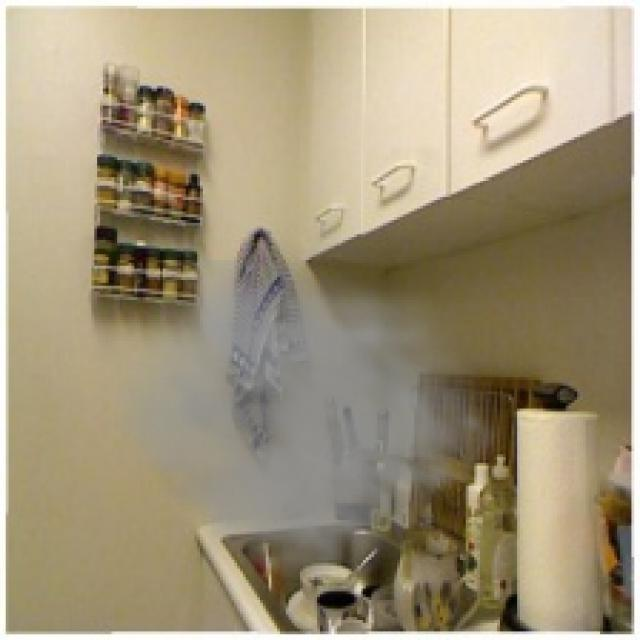Smoke: (94, 260, 517, 617)
